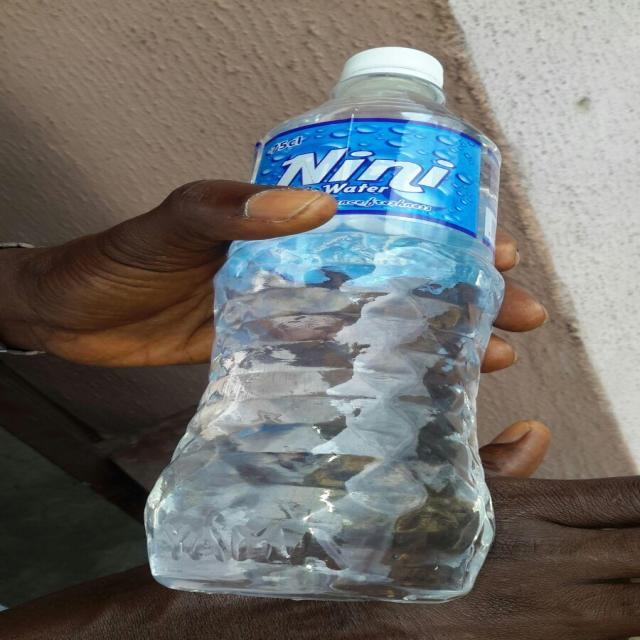bottle: (129, 35, 532, 611)
